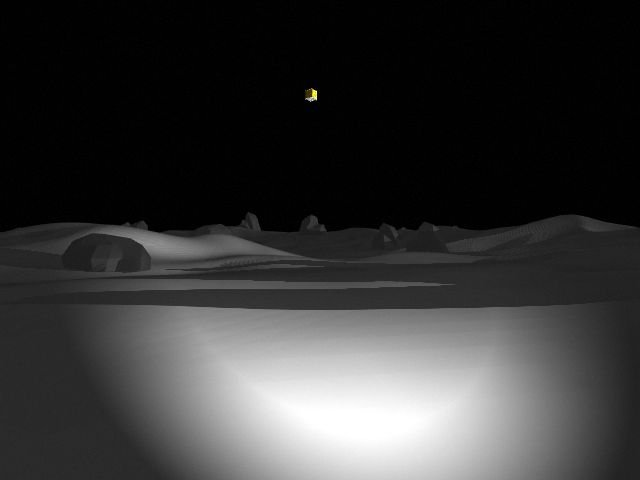cubesat: (300, 86, 321, 104)
